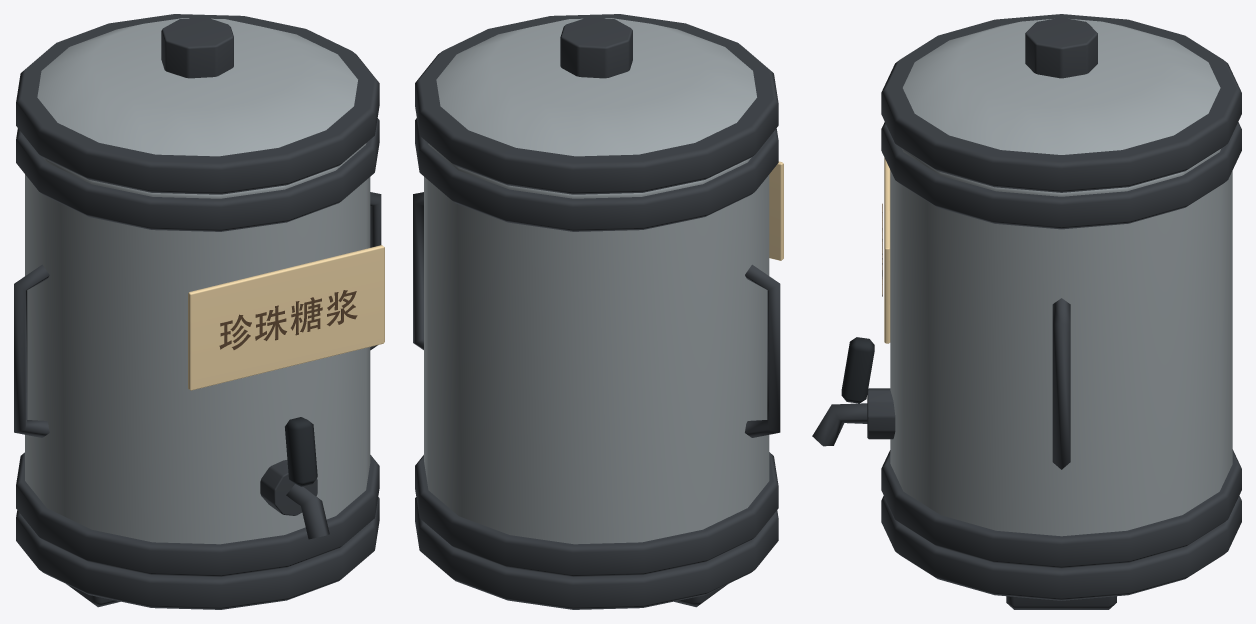
The model's file is tea_dispenser_green.fbx.
3 renders of one model, left to right at view 1: azimuth 30°, elevation 25°; view 2: azimuth 150°, elevation 25°; view 3: azimuth 270°, elevation 25°, orthographic.
Visible parts, largest first — view 1: tea_dispenser_green; view 2: tea_dispenser_green; view 3: tea_dispenser_green.
Part boxes in pixels (bbox=[...]): tea_dispenser_green: bbox=[14, 14, 384, 609]; tea_dispenser_green: bbox=[413, 14, 783, 609]; tea_dispenser_green: bbox=[812, 14, 1241, 609].
Size of the model in its own units: 0.4138 by 0.568 by 0.4267.
